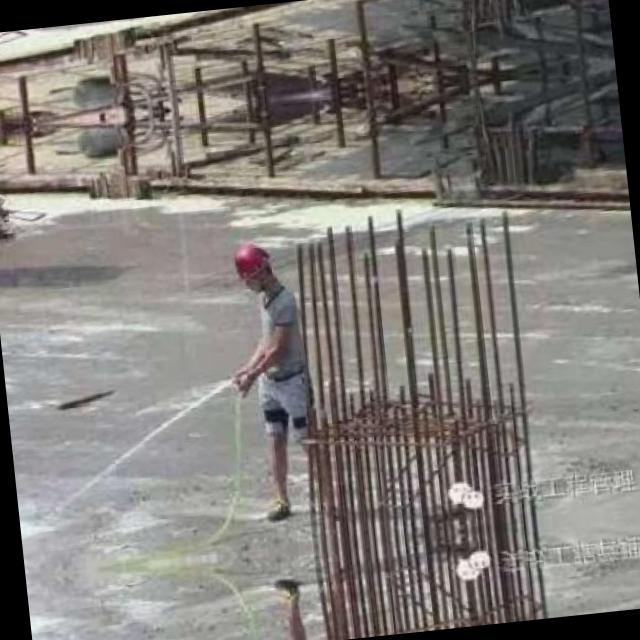helmet: (229, 237, 272, 285)
